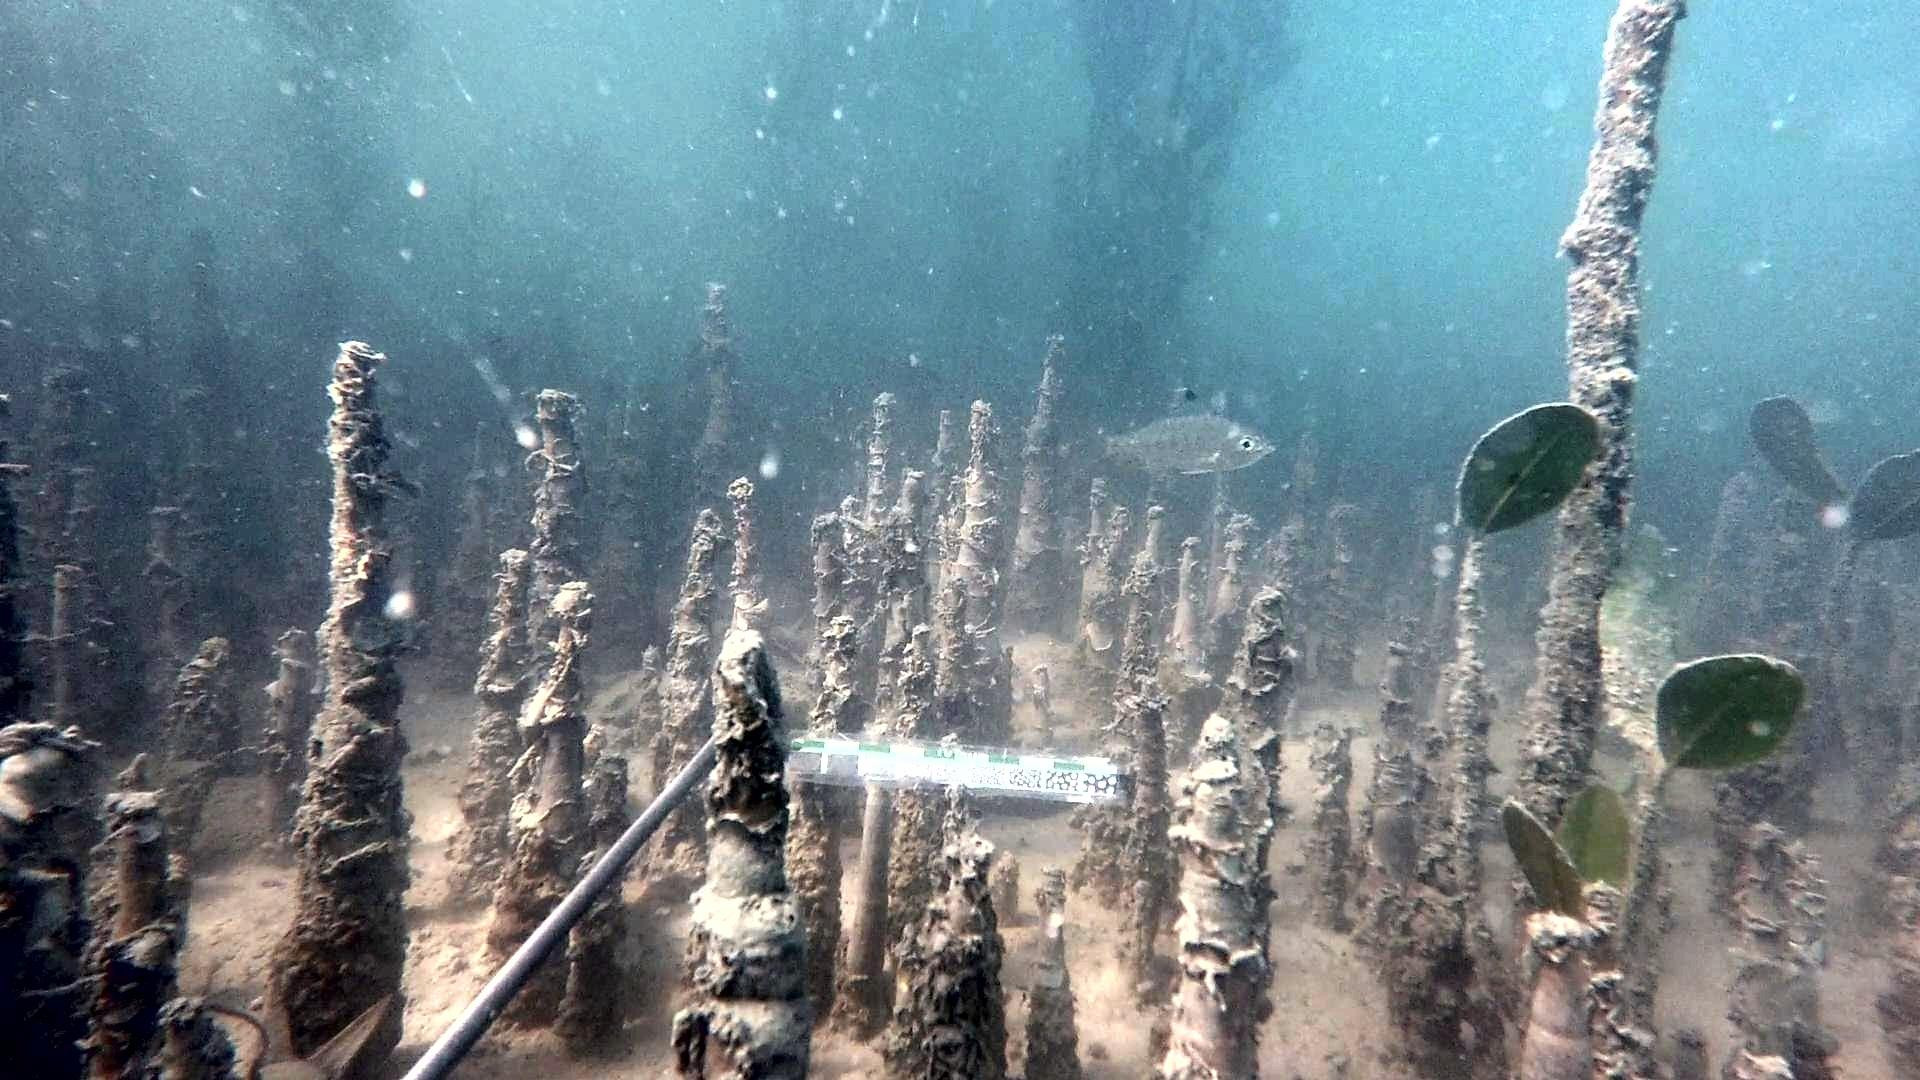gerres: (1080, 385, 1276, 480)
